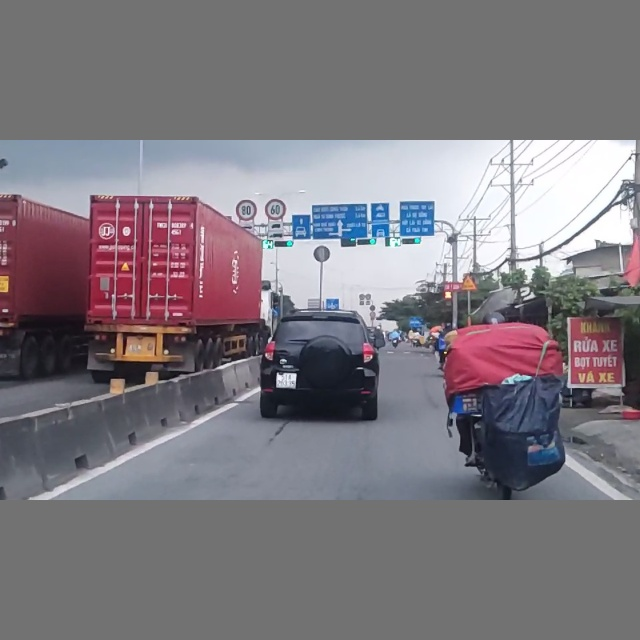P.127*60: (265, 198, 287, 221)
P.127*80: (235, 199, 258, 223)
R.302a: (271, 308, 279, 315)
W.245a: (461, 274, 477, 291)
